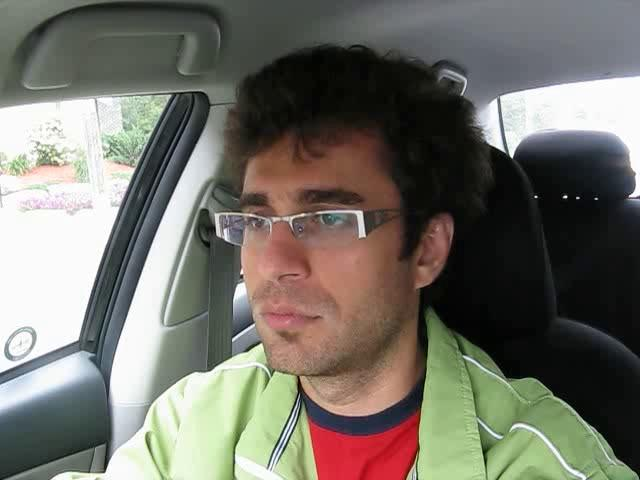no_yawn: (238, 296, 336, 343)
open_eyeL: (231, 202, 277, 241)
open_eyeR: (301, 197, 371, 245)
